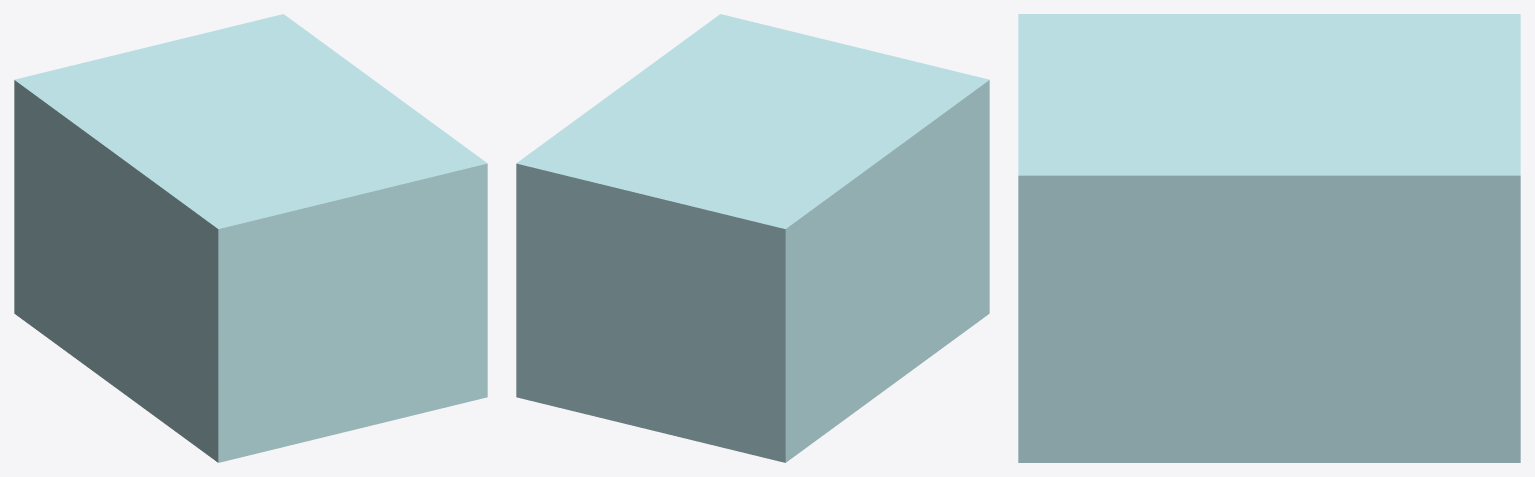
File: SM_IntroRoom_Walls_Test.fbx
3 views of the same model, side by side, from view 1: azimuth 30°, elevation 25°; view 2: azimuth 150°, elevation 25°; view 3: azimuth 270°, elevation 25° (orthographic). The views are drawn at different scales.
Parts seen in each view (by area): view 1: SM_KidRoom_WallsRoofGround; view 2: SM_KidRoom_WallsRoofGround; view 3: SM_KidRoom_WallsRoofGround.
Boxes of the visible parts, left/top/right/bottom form: SM_KidRoom_WallsRoofGround: left=14, top=14, right=487, bottom=462; SM_KidRoom_WallsRoofGround: left=516, top=14, right=989, bottom=462; SM_KidRoom_WallsRoofGround: left=1018, top=14, right=1520, bottom=462.
Bounding box in the file's own units: 3.1 × 2.57 × 4.07.
